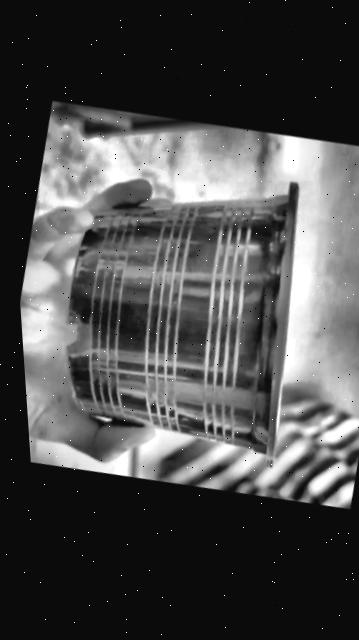pot: (66, 184, 297, 465)
